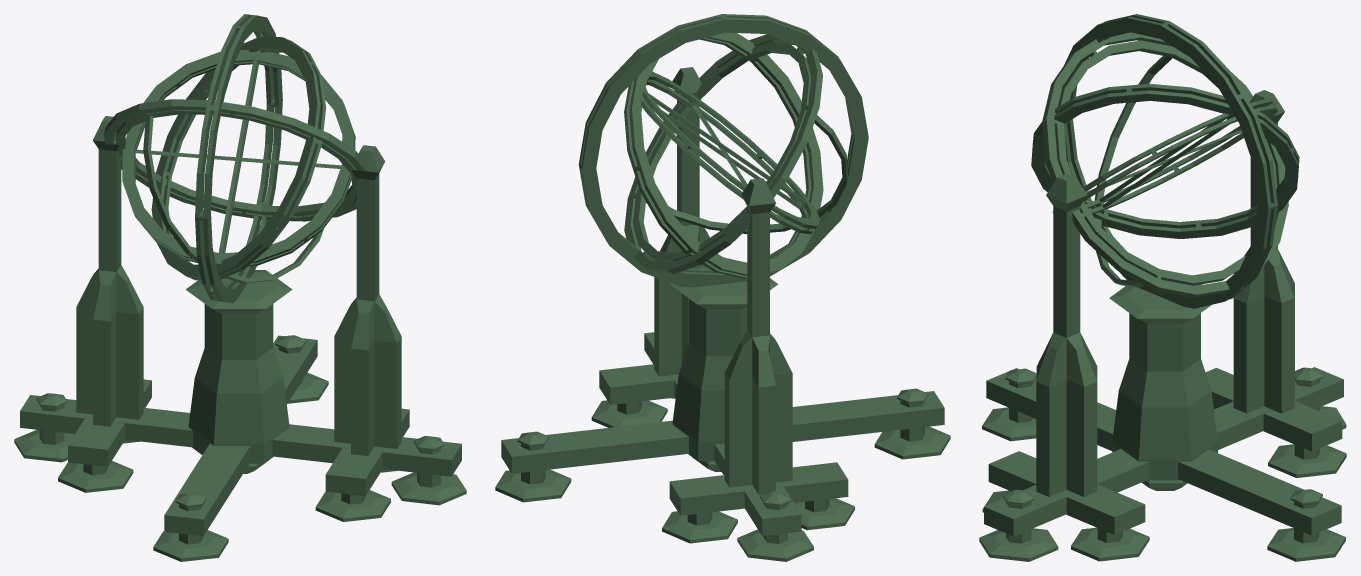
File: 玑衡抚辰仪.fbx
The picture shows the model from 3 angles, left to right: view 1: azimuth 30°, elevation 25°; view 2: azimuth 150°, elevation 25°; view 3: azimuth 270°, elevation 25°; orthographic projection. The views are drawn at different scales.
Visible parts, largest first — view 1: 柱体.021, 立方体.004, 立方体.008, 立方体.007, 柱体.018, 柱体.022, 柱体.019, 柱体.020, 脚脚.012, 立方体.006, 立方体.005, 脚脚.015 (+4 smaller); view 2: 立方体.004, 立方体.007, 柱体.019, 柱体.022, 柱体.021, 柱体.020, 柱体.018, 立方体.008, 立方体.005, 立方体.006, 脚脚.014, 脚脚.015 (+4 smaller); view 3: 柱体.021, 立方体.004, 立方体.008, 柱体.022, 柱体.019, 立方体.007, 柱体.020, 柱体.018, 立方体.006, 立方体.005, 脚脚.014, 脚脚.012 (+4 smaller).
Part boxes in pixels (left/top/right/bottom): 柱体.021: left=186, top=270, right=292, bottom=473; 立方体.004: left=20, top=335, right=461, bottom=535; 立方体.008: left=334, top=145, right=401, bottom=455; 立方体.007: left=76, top=116, right=143, bottom=426; 柱体.018: left=122, top=49, right=355, bottom=266; 柱体.022: left=104, top=99, right=365, bottom=283; 柱体.019: left=195, top=14, right=282, bottom=303; 柱体.020: left=151, top=36, right=326, bottom=280; 脚脚.012: left=391, top=436, right=466, bottom=505; 立方体.006: left=325, top=408, right=409, bottom=495; 立方体.005: left=68, top=379, right=151, bottom=466; 脚脚.015: left=153, top=492, right=228, bottom=561; 立方体.004: left=501, top=332, right=944, bottom=535; 立方体.007: left=724, top=178, right=792, bottom=494; 柱体.019: left=578, top=14, right=868, bottom=287; 柱体.022: left=624, top=34, right=848, bottom=274; 柱体.021: left=669, top=264, right=777, bottom=471; 柱体.020: left=624, top=32, right=823, bottom=278; 柱体.018: left=641, top=71, right=820, bottom=234; 立方体.008: left=654, top=67, right=717, bottom=376; 立方体.005: left=669, top=462, right=848, bottom=515; 立方体.006: left=599, top=364, right=674, bottom=404; 脚脚.014: left=495, top=431, right=571, bottom=502; 脚脚.015: left=874, top=388, right=950, bottom=459; 柱体.021: left=1109, top=284, right=1217, bottom=490; 立方体.004: left=984, top=367, right=1343, bottom=536; 立方体.008: left=1036, top=173, right=1097, bottom=496; 柱体.022: left=1042, top=32, right=1288, bottom=297; 柱体.019: left=1062, top=14, right=1277, bottom=308; 立方体.007: left=1233, top=90, right=1294, bottom=413; 柱体.020: left=1031, top=83, right=1299, bottom=238; 柱体.018: left=1052, top=98, right=1278, bottom=214; 立方体.006: left=988, top=451, right=1145, bottom=534; 立方体.005: left=1205, top=368, right=1342, bottom=451; 脚脚.014: left=1267, top=489, right=1345, bottom=561; 脚脚.012: left=979, top=489, right=1058, bottom=561.
Size of the model in its own units: 2044 by 2833 by 2047.
